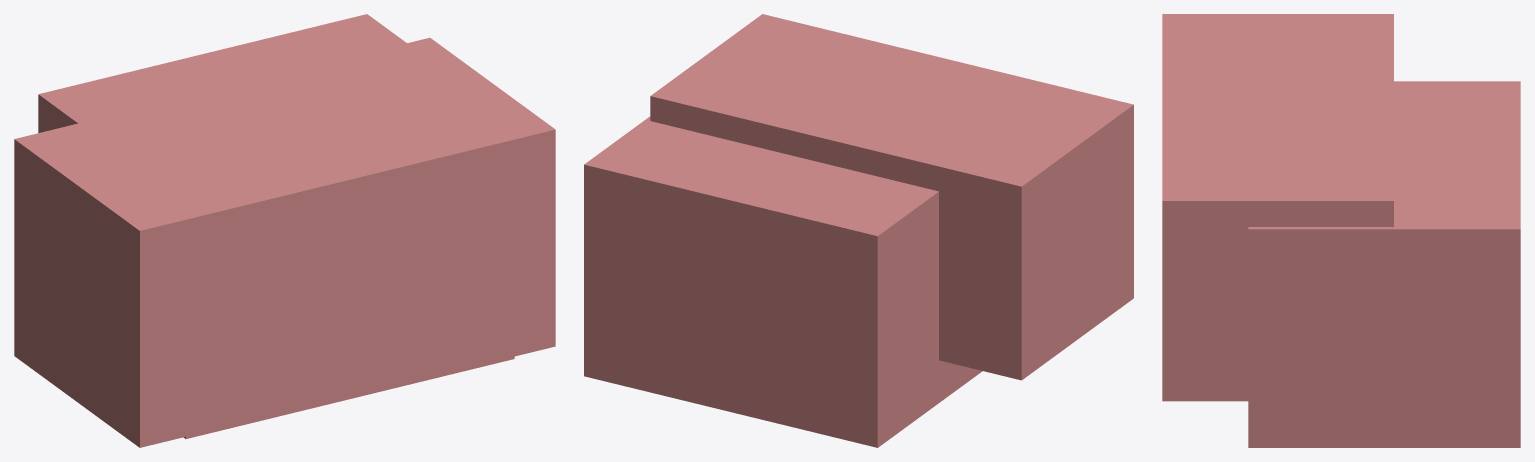
File: 199536_occ.glb
The picture shows the model from 3 angles, left to right: view 1: azimuth 30°, elevation 25°; view 2: azimuth 150°, elevation 25°; view 3: azimuth 270°, elevation 25°; orthographic projection. The views are drawn at different scales.
Parts seen in each view (by area): view 1: world; view 2: world; view 3: world.
Boxes of the visible parts, <box> form: world: <box>14,14,555,447</box>; world: <box>584,14,1133,447</box>; world: <box>1162,14,1520,447</box>.
Bounding box in the file's own units: 6.6 × 3.96 × 5.26.
